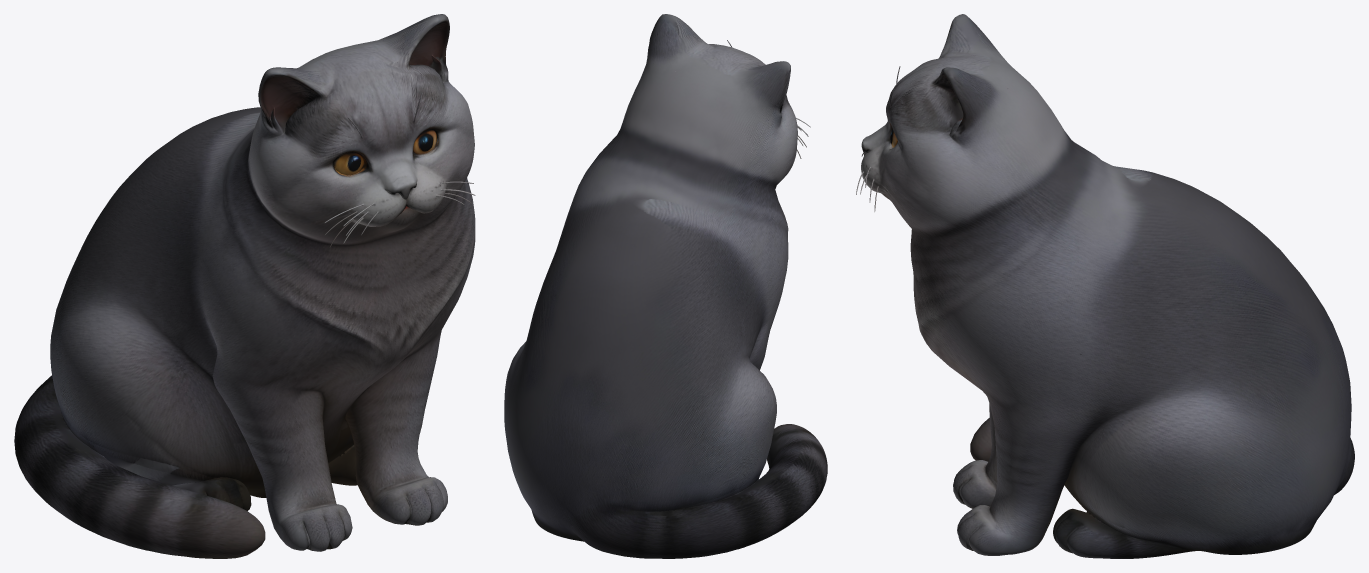
The model's file is sitting.glb.
3 renders of one model, left to right at view 1: azimuth 30°, elevation 25°; view 2: azimuth 150°, elevation 25°; view 3: azimuth 270°, elevation 25°, orthographic. The views are drawn at different scales.
Visible parts, largest first — view 1: cat; view 2: cat; view 3: cat.
Part boxes in pixels (bbox=[...]): cat: bbox=[14, 14, 475, 558]; cat: bbox=[504, 14, 827, 558]; cat: bbox=[856, 14, 1354, 558].
Size of the model in its own units: 0.6476 by 0.9132 by 0.855.
1 material, 1 textured.
